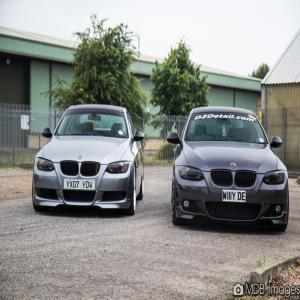Vehicle-registration-plate: (64, 180, 96, 191), (224, 190, 247, 202)
